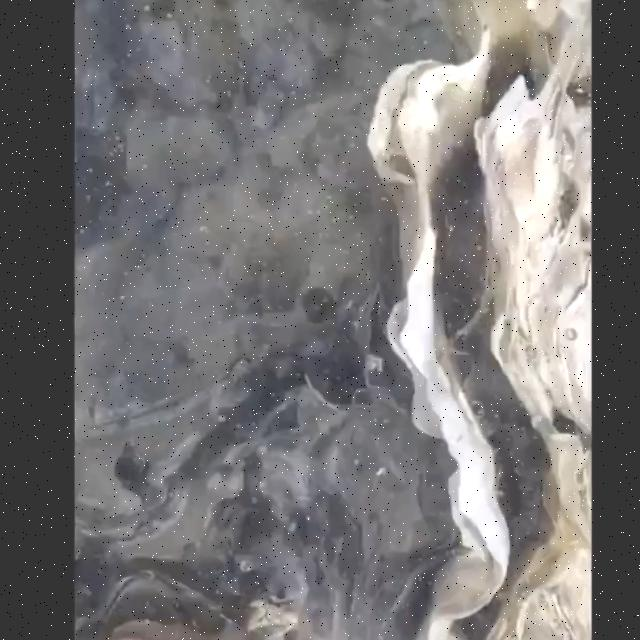Oyster-Open: (364, 0, 596, 640), (72, 86, 394, 546)
